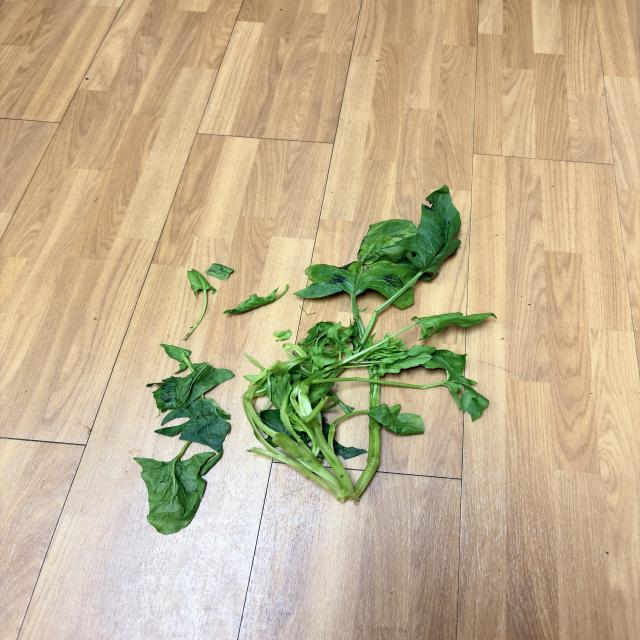rotten spinach: (110, 178, 486, 522)
